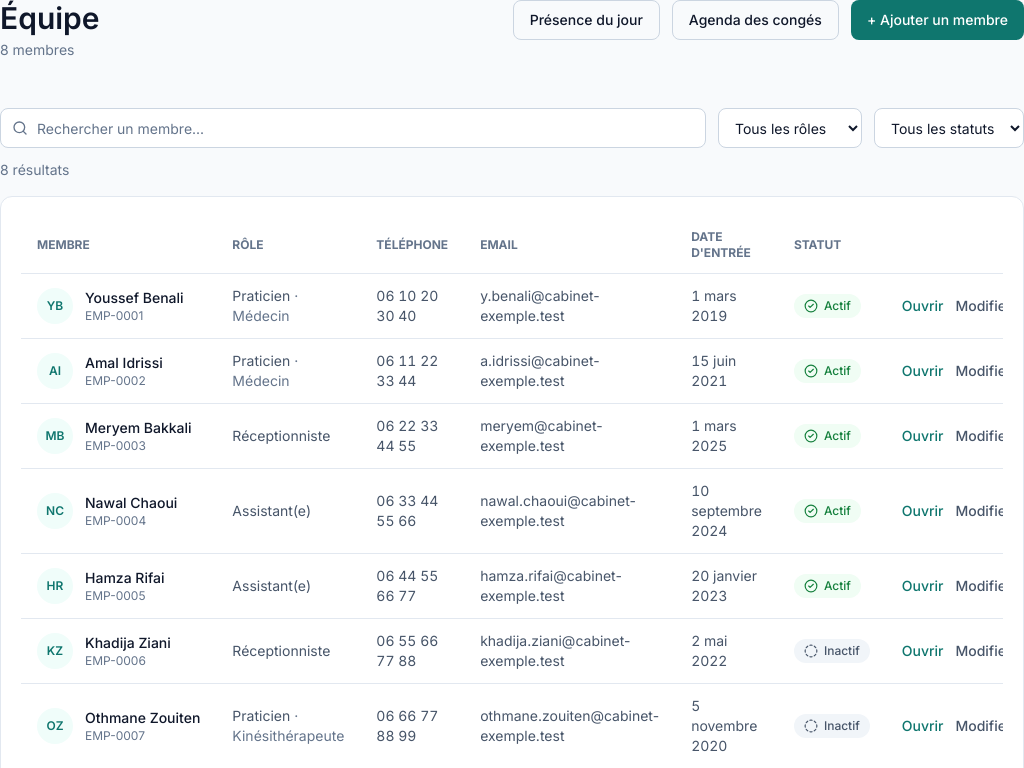
Test: TeamPage › filters by role, only offering roles actually represented in the data (21)
Select "Réceptionniste" in the dropdown named "Rôle": (790, 128) [718, 108, 862, 148]
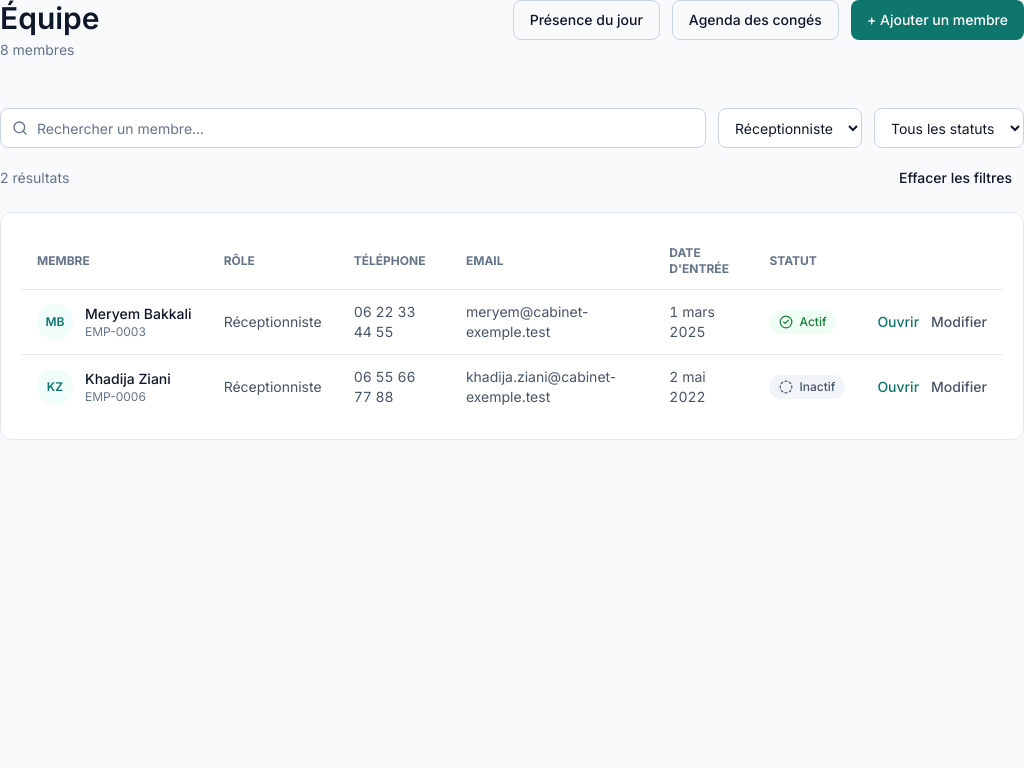
Expected: the text "Meryem Bakkali" is shown, [85, 304, 192, 324]
Expected: the text "Youssef Benali" is gone
